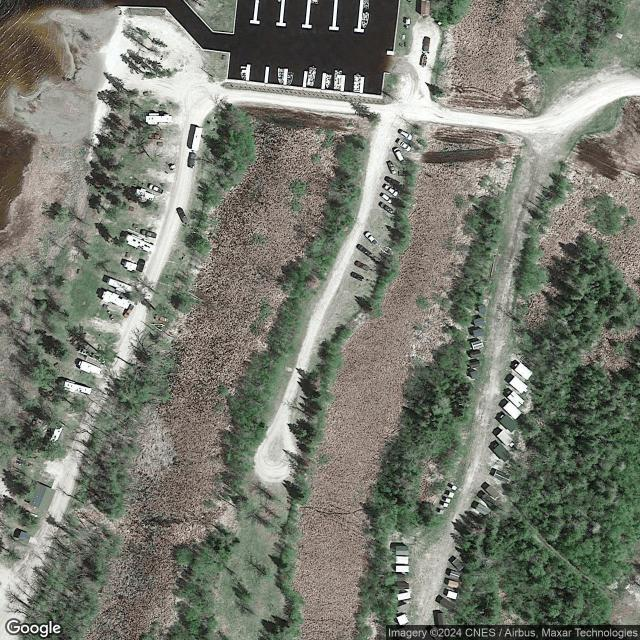Propane: (28, 512, 39, 518)
